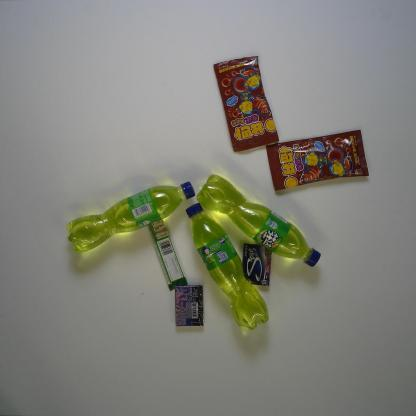Candy: (264, 128, 370, 192), (213, 54, 279, 153)
Chocolate: (148, 215, 190, 294)
Drink: (196, 172, 322, 270), (183, 201, 270, 331), (66, 181, 197, 254)
Gum: (174, 282, 206, 328), (242, 242, 273, 289)
